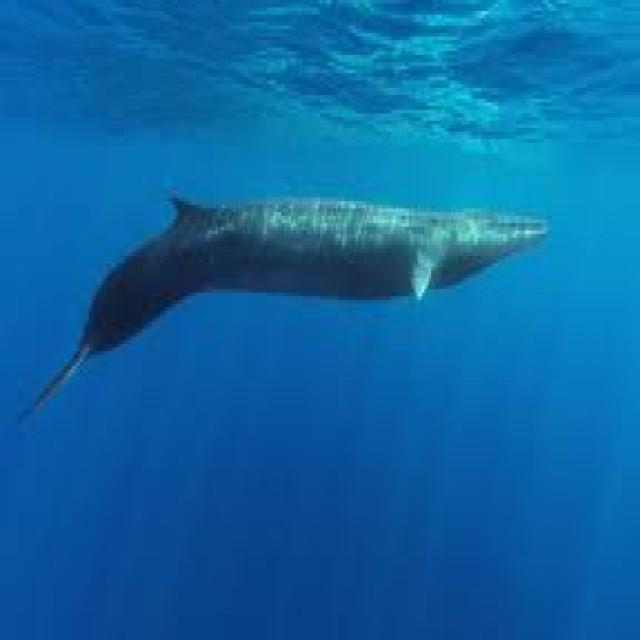blue_whale: (7, 172, 560, 458)
